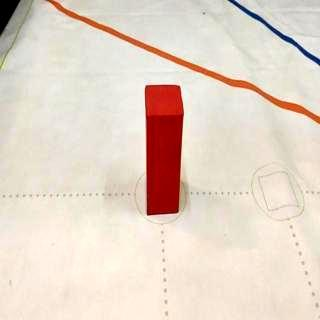redbox: (146, 83, 183, 215)
